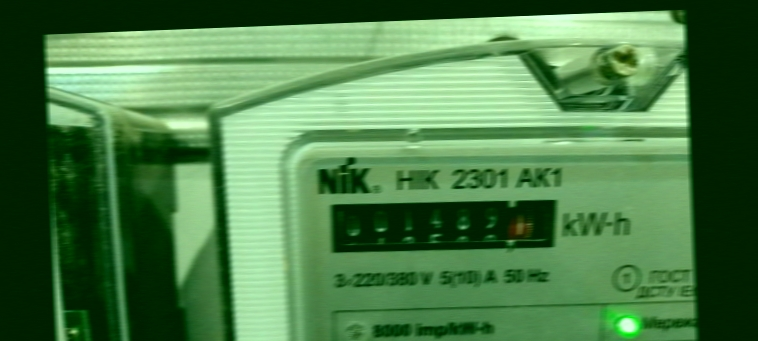0: (344, 212, 360, 238), (371, 207, 387, 233)
1: (399, 205, 415, 235), (512, 207, 525, 237)
4: (426, 205, 443, 232)
8: (452, 204, 471, 232)
9: (482, 205, 497, 231)
screen: (314, 184, 573, 270)
